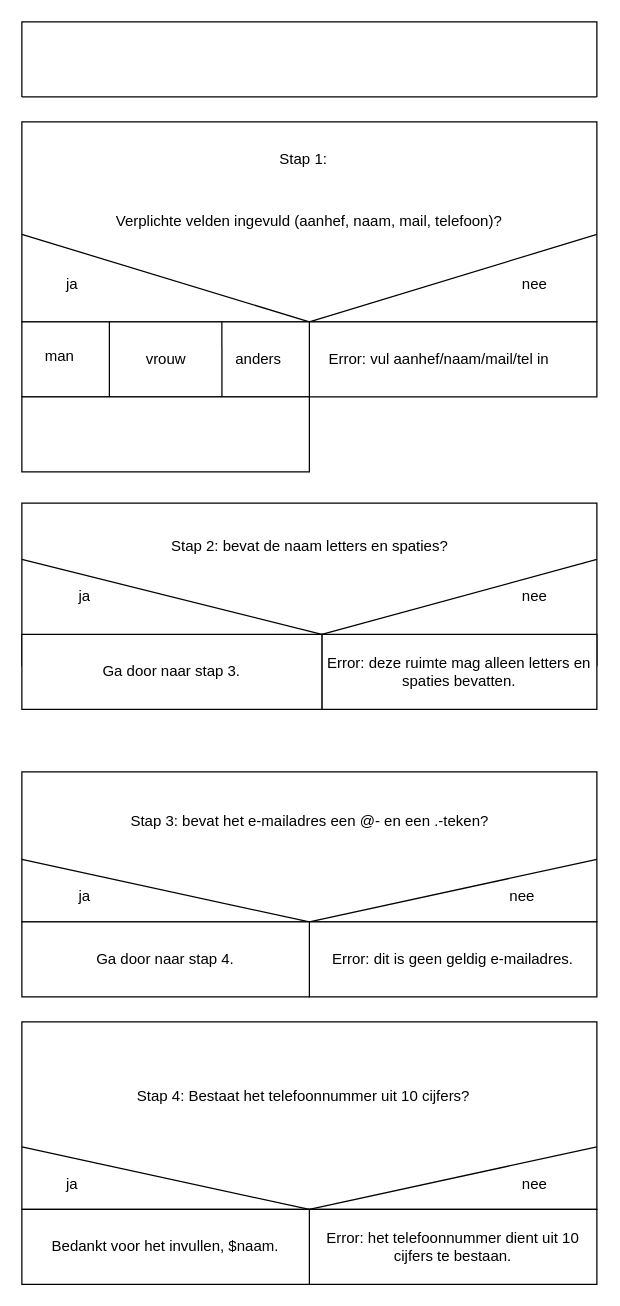
The diagram is 620 pixels wide and 1306 high, and some of its shapes have lost their labels. The shapes that lost their labels are listed below. From the top down, each one's centre as x and y in pixels, then its label:
At (309,59): "PSD Form Data".
At (165,434): "Ga door naar stap 2.".
